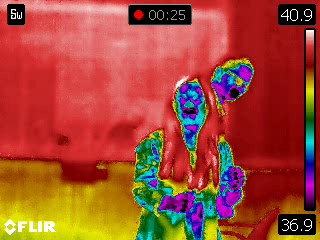human: (135, 74, 248, 240), (200, 54, 261, 112)
